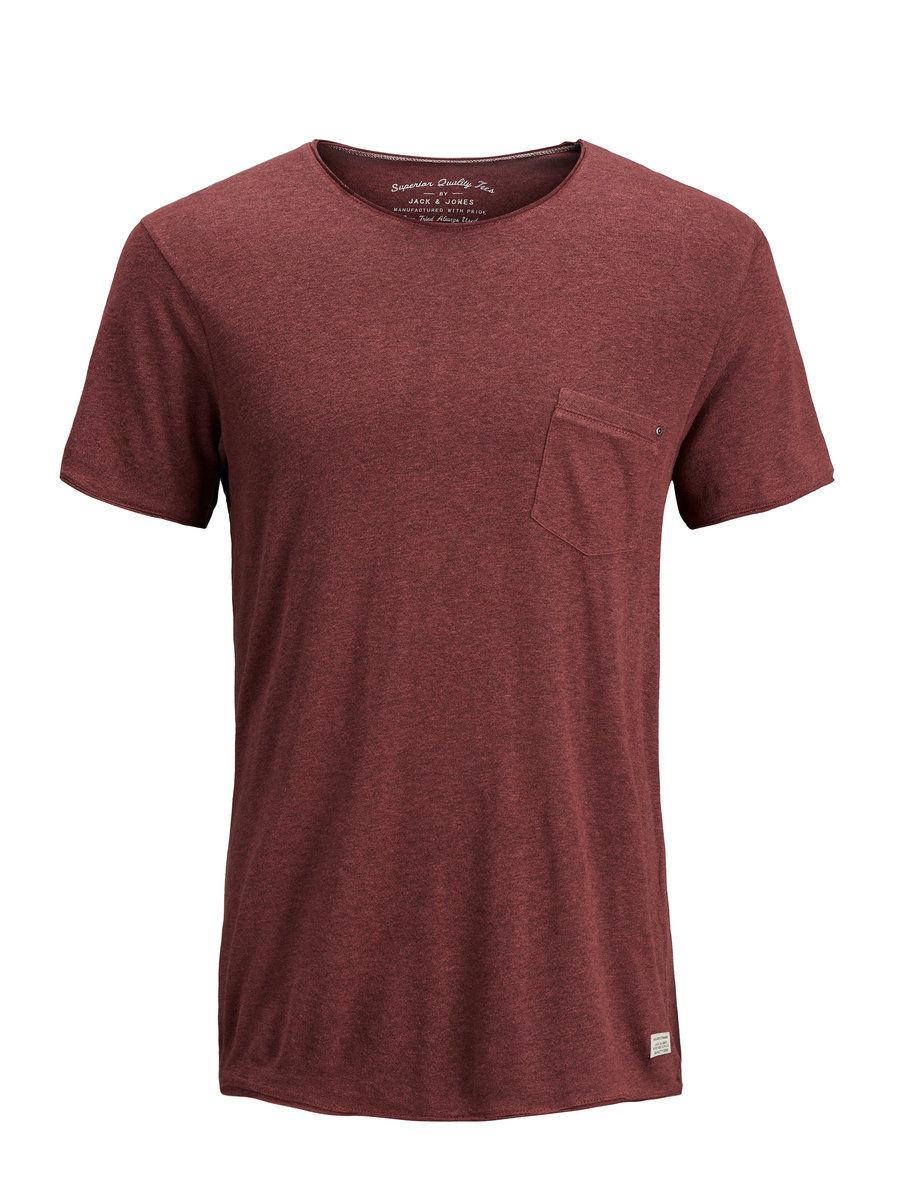teeshirt: (56, 127, 863, 1142)
